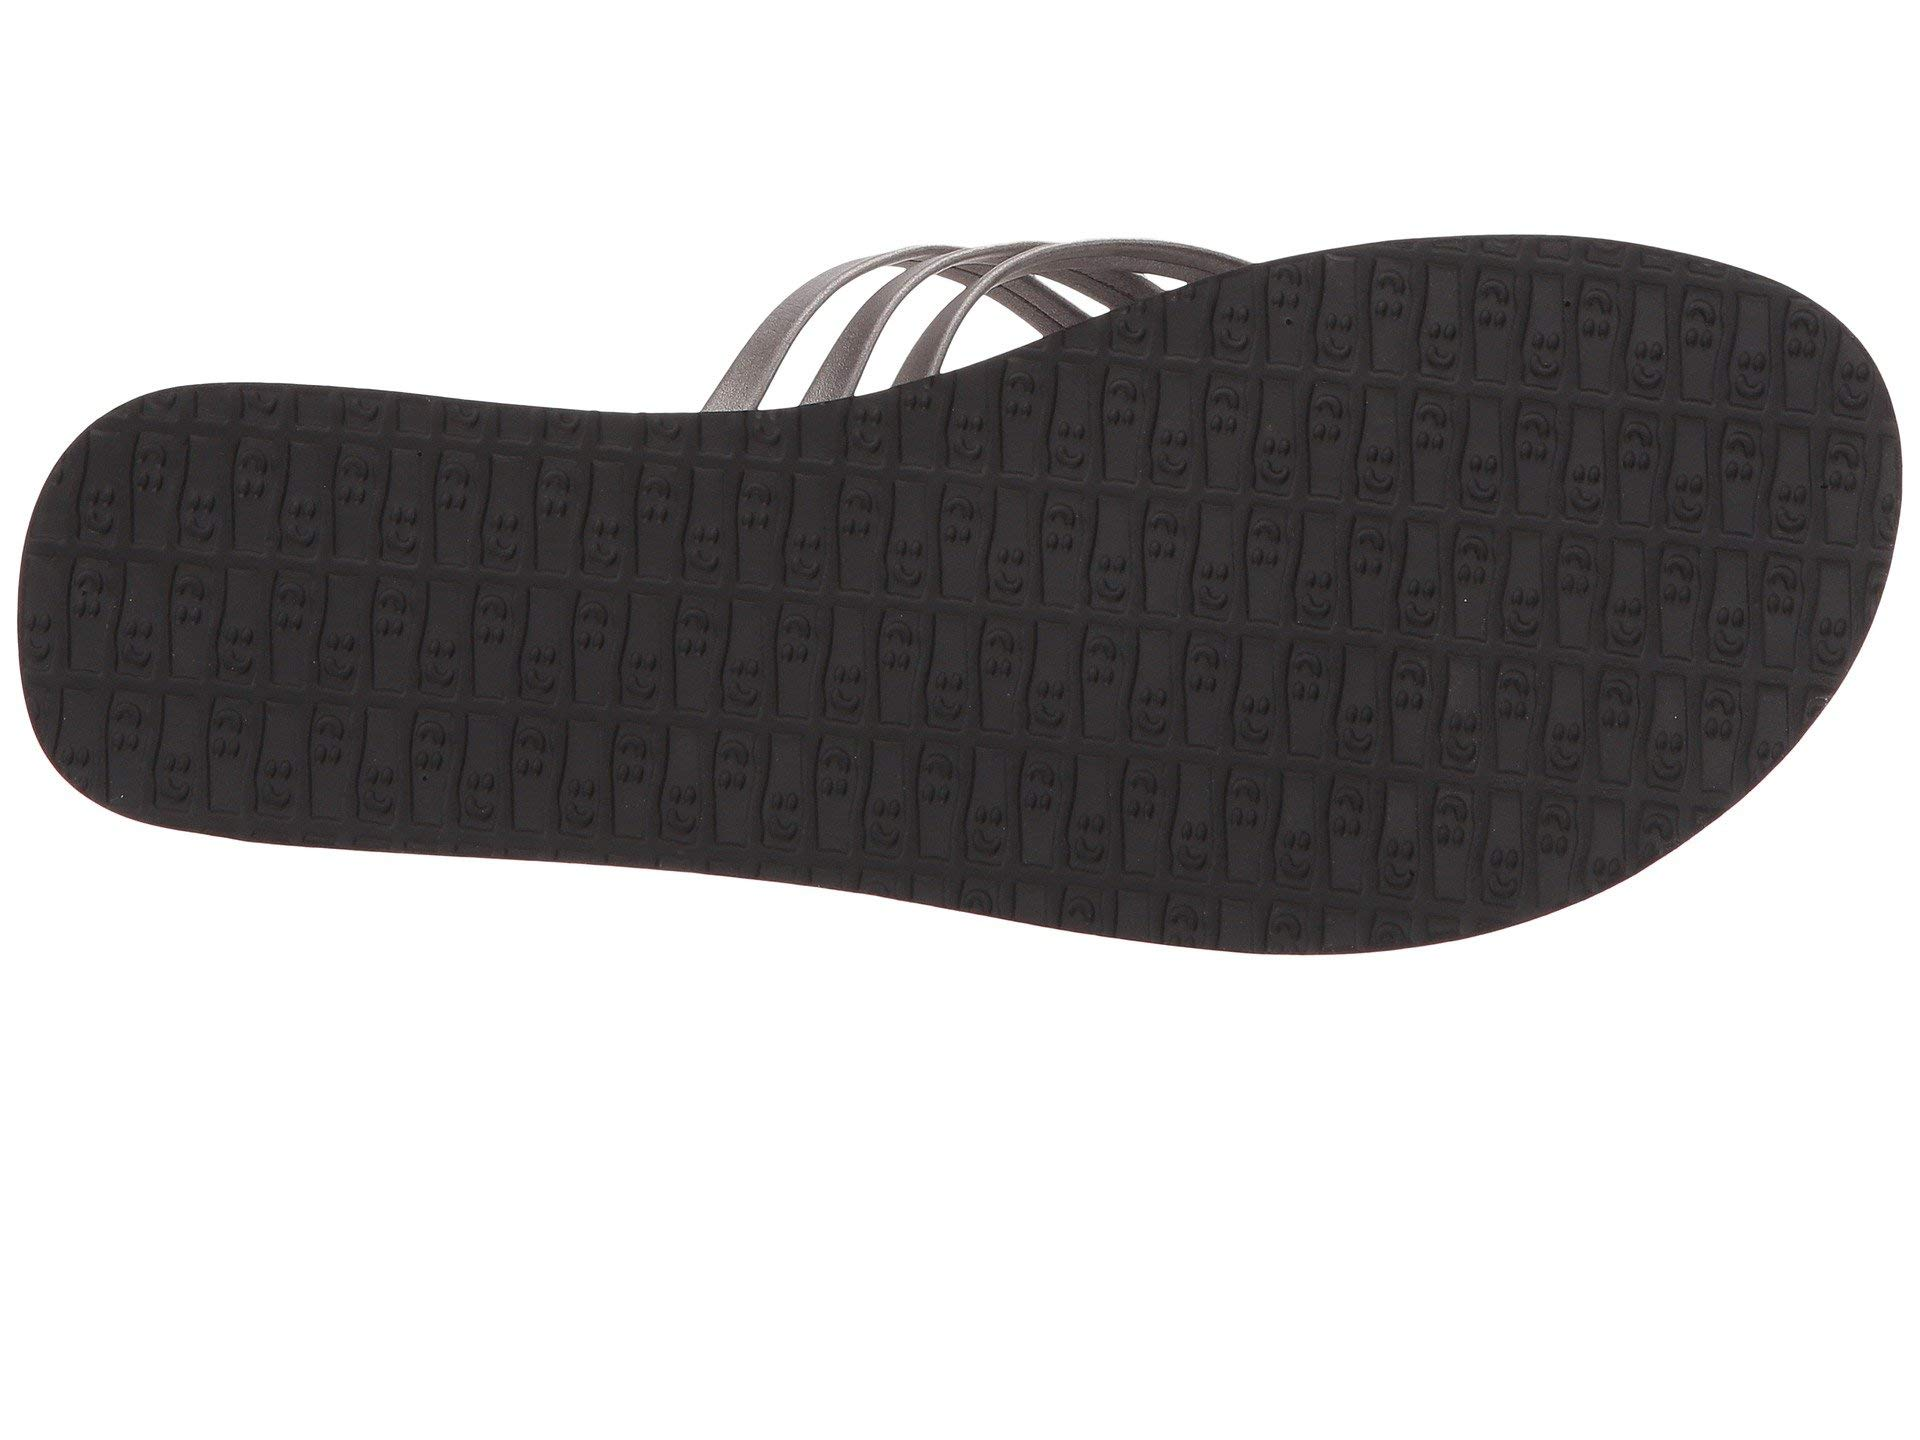quad: (88, 445, 457, 809), (1459, 242, 1791, 570), (479, 421, 813, 738), (833, 411, 1138, 718), (1131, 319, 1451, 599), (1284, 614, 1584, 902), (1045, 731, 1276, 967), (828, 731, 1028, 920)
text: (88, 445, 457, 809), (1459, 242, 1791, 570), (479, 421, 813, 738), (833, 411, 1138, 718), (1131, 319, 1451, 599), (1284, 614, 1584, 902), (1045, 731, 1276, 967), (828, 731, 1028, 920)
